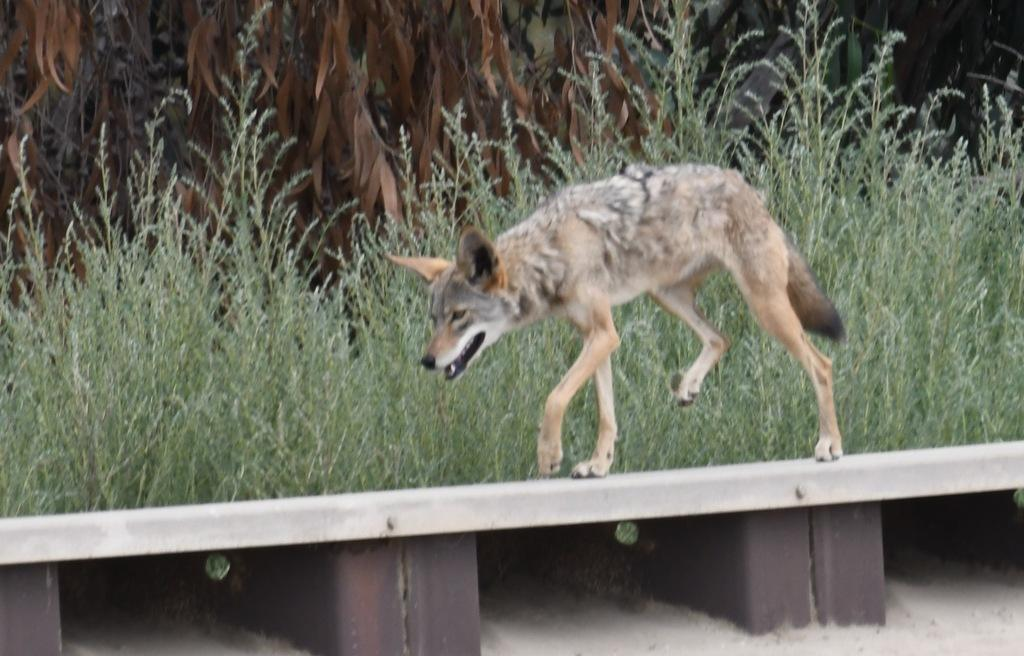Coyote: (384, 157, 853, 479)
